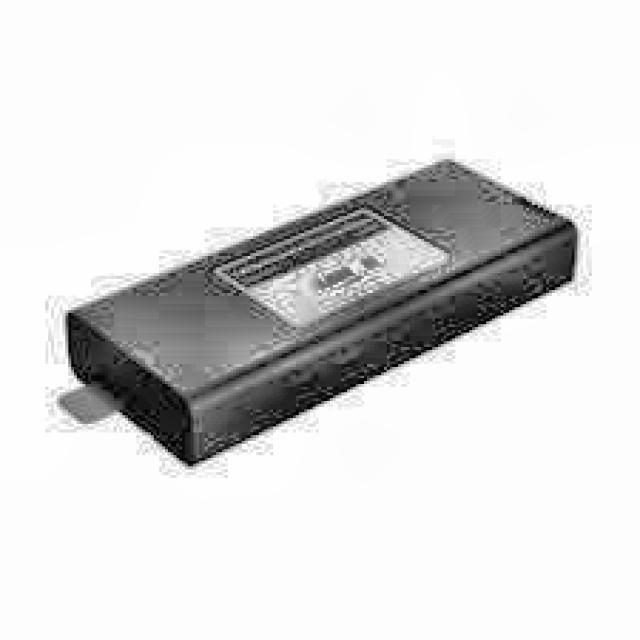Battery: (74, 171, 575, 458)
